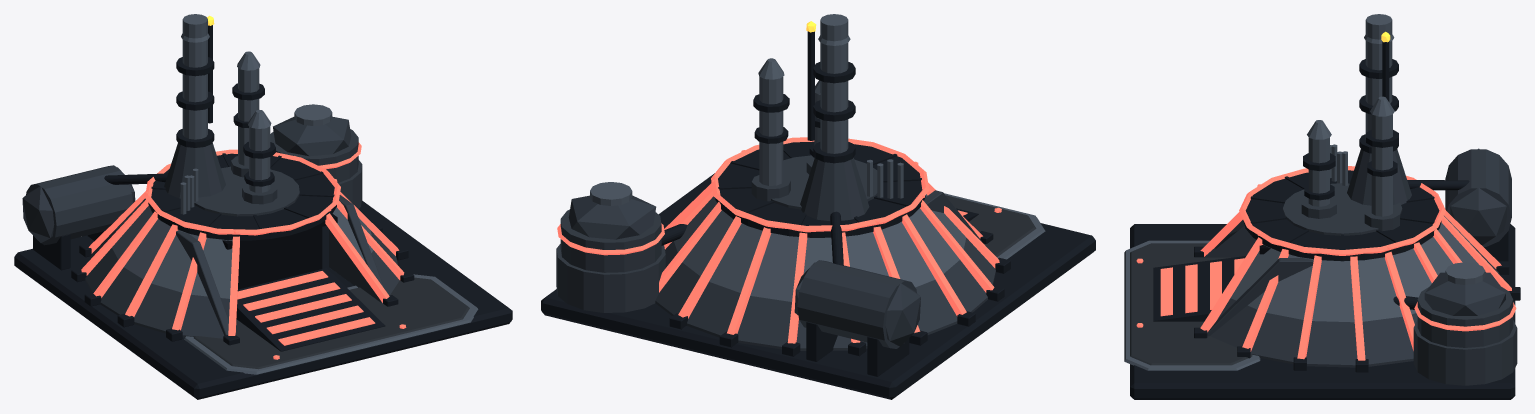
The model's file is m_refinery.glb.
3 renders of one model, left to right at view 1: azimuth 30°, elevation 25°; view 2: azimuth 150°, elevation 25°; view 3: azimuth 270°, elevation 25°, orthographic. The views are drawn at different scales.
Visible parts, largest first — view 1: Refinery; view 2: Refinery; view 3: Refinery.
Part boxes in pixels (x1=…): Refinery: x1=14, y1=14, x2=512, y2=399; Refinery: x1=541, y1=14, x2=1095, y2=399; Refinery: x1=1124, y1=14, x2=1520, y2=399.
Size of the model in its own units: 5.85 by 4.65 by 5.96.
